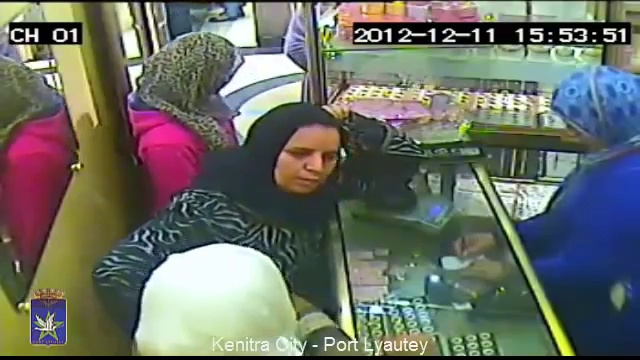face: (281, 132, 343, 192)
